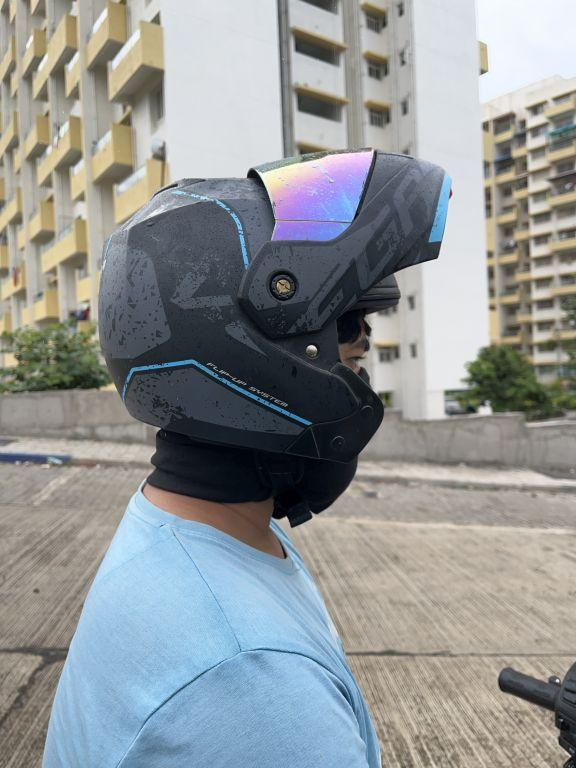helmet: (85, 139, 461, 545)
